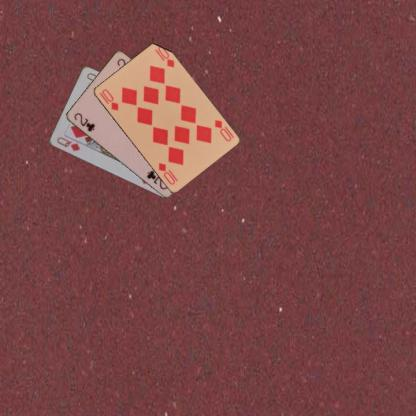10d: (96, 86, 120, 112), (212, 116, 232, 142)
2c: (71, 110, 96, 133)
Qd: (54, 134, 81, 153)
